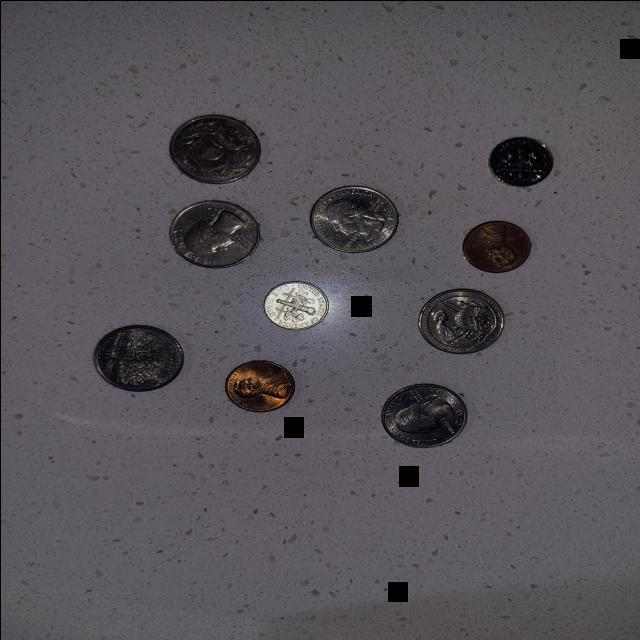Dime: (481, 132, 556, 193), (260, 276, 332, 336)
Penny: (213, 356, 300, 422), (454, 214, 534, 280)
Quarter: (368, 374, 476, 460), (86, 320, 186, 410), (300, 177, 404, 259), (165, 111, 274, 188), (408, 282, 511, 362), (160, 198, 268, 274)
